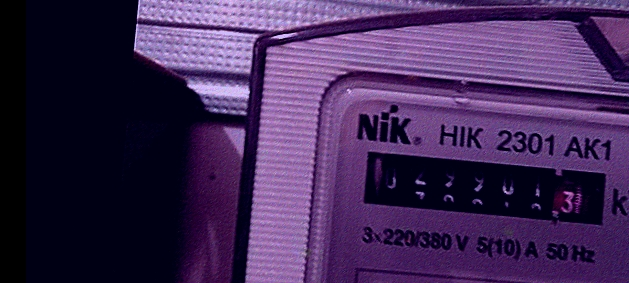0: (380, 161, 400, 190), (499, 167, 517, 197)
1: (530, 169, 545, 198)
2: (410, 158, 431, 187)
3: (557, 186, 577, 214)
9: (440, 161, 459, 189), (471, 165, 486, 193)
screen: (353, 139, 618, 236)
